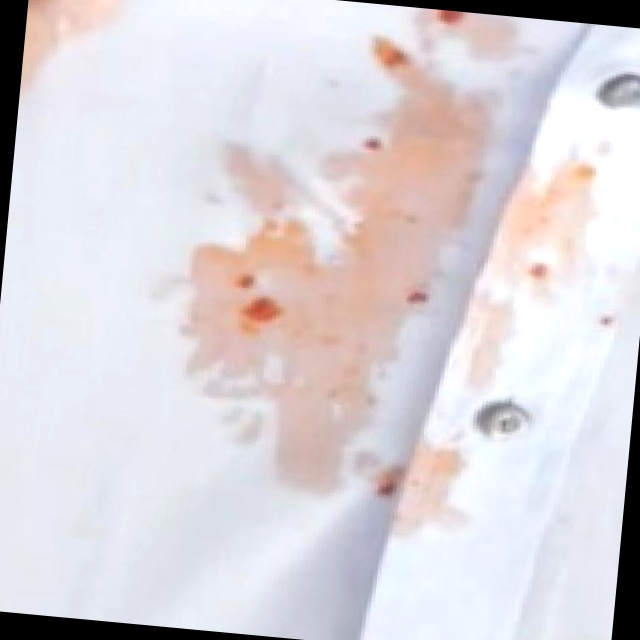kimchi: (124, 0, 640, 557), (21, 0, 138, 106), (216, 237, 301, 344), (346, 447, 444, 526), (381, 258, 455, 329), (346, 107, 423, 168), (518, 241, 567, 300), (420, 8, 490, 40), (562, 155, 608, 200), (375, 42, 416, 81), (594, 297, 631, 336)
